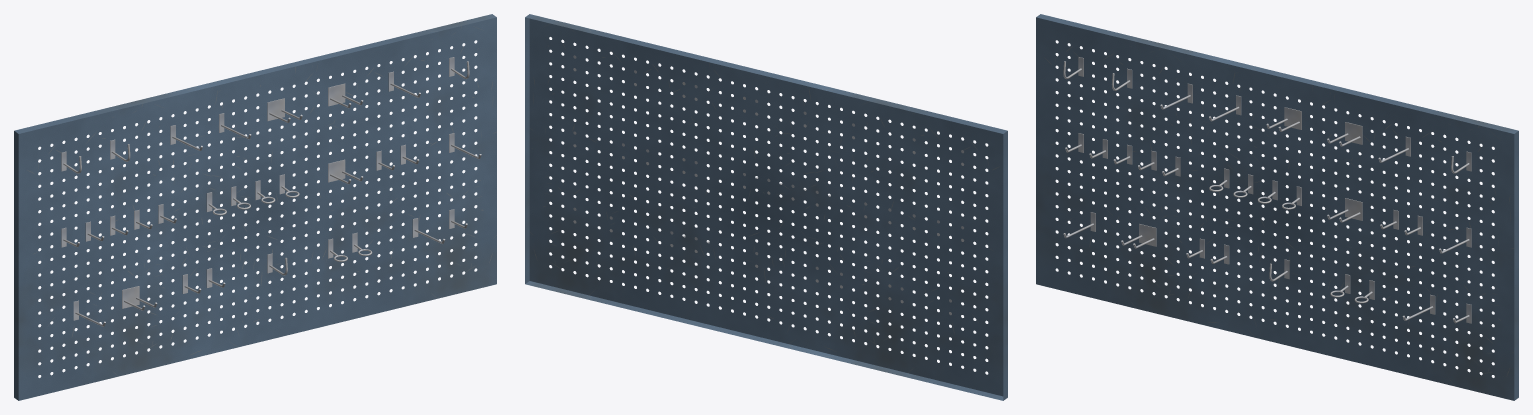
Rendered from werkzeugwand.fbx.
The picture shows the model from 3 angles, left to right: view 1: azimuth 30°, elevation 25°; view 2: azimuth 150°, elevation 25°; view 3: azimuth 330°, elevation 25°; orthographic projection.
Visible parts, largest first — view 1: Lochwand_Platte, Haken_05_doppel, Haken_23_doppel, Haken_18_doppel, Haken_06_doppel; view 2: Lochwand_Platte; view 3: Lochwand_Platte, Haken_05_doppel, Haken_23_doppel, Haken_06_doppel, Haken_18_doppel.
Part boxes in pixels (x1,y1,x2,y2): Lochwand_Platte: [14, 14, 496, 400]; Haken_05_doppel: [267, 98, 302, 122]; Haken_23_doppel: [122, 286, 157, 310]; Haken_18_doppel: [328, 159, 363, 184]; Haken_06_doppel: [328, 83, 363, 108]; Lochwand_Platte: [525, 14, 1007, 400]; Lochwand_Platte: [1036, 14, 1518, 400]; Haken_05_doppel: [1266, 107, 1301, 131]; Haken_23_doppel: [1121, 224, 1156, 248]; Haken_06_doppel: [1327, 122, 1362, 146]; Haken_18_doppel: [1327, 198, 1362, 222].
Bounding box in the file's own units: 1.5 × 0.8 × 0.1847.
Materials: 2 (2 with a texture image).
